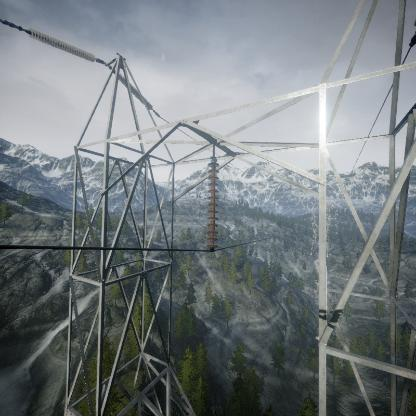insulator: (15, 24, 102, 65), (118, 73, 155, 114), (207, 156, 220, 249)
